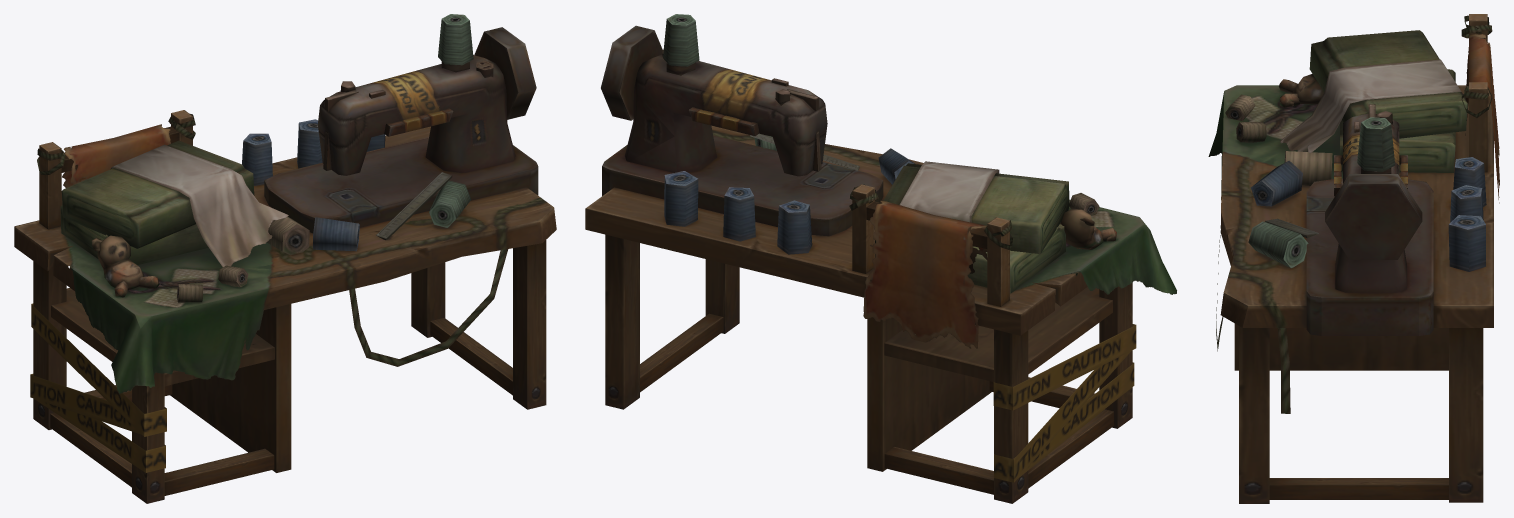
File: SewingTable.FBX
The picture shows the model from 3 angles, left to right: view 1: azimuth 30°, elevation 25°; view 2: azimuth 150°, elevation 25°; view 3: azimuth 270°, elevation 25°; orthographic projection. The views are drawn at different scales.
Parts seen in each view (by area): view 1: SewingTable; view 2: SewingTable; view 3: SewingTable.
Part boxes in pixels (x1,y1,x2,y2): SewingTable: (14,14,556,503); SewingTable: (585,14,1176,503); SewingTable: (1208,14,1499,503).
Bounding box in the file's own units: 2.06 × 1.45 × 1.04.
